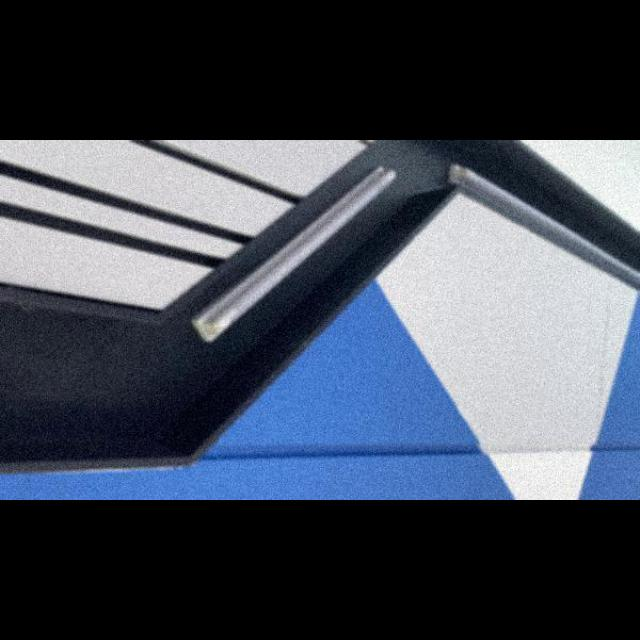Straight-Tube-Fluorescent-Lamp: (186, 154, 406, 356), (442, 154, 640, 322)
